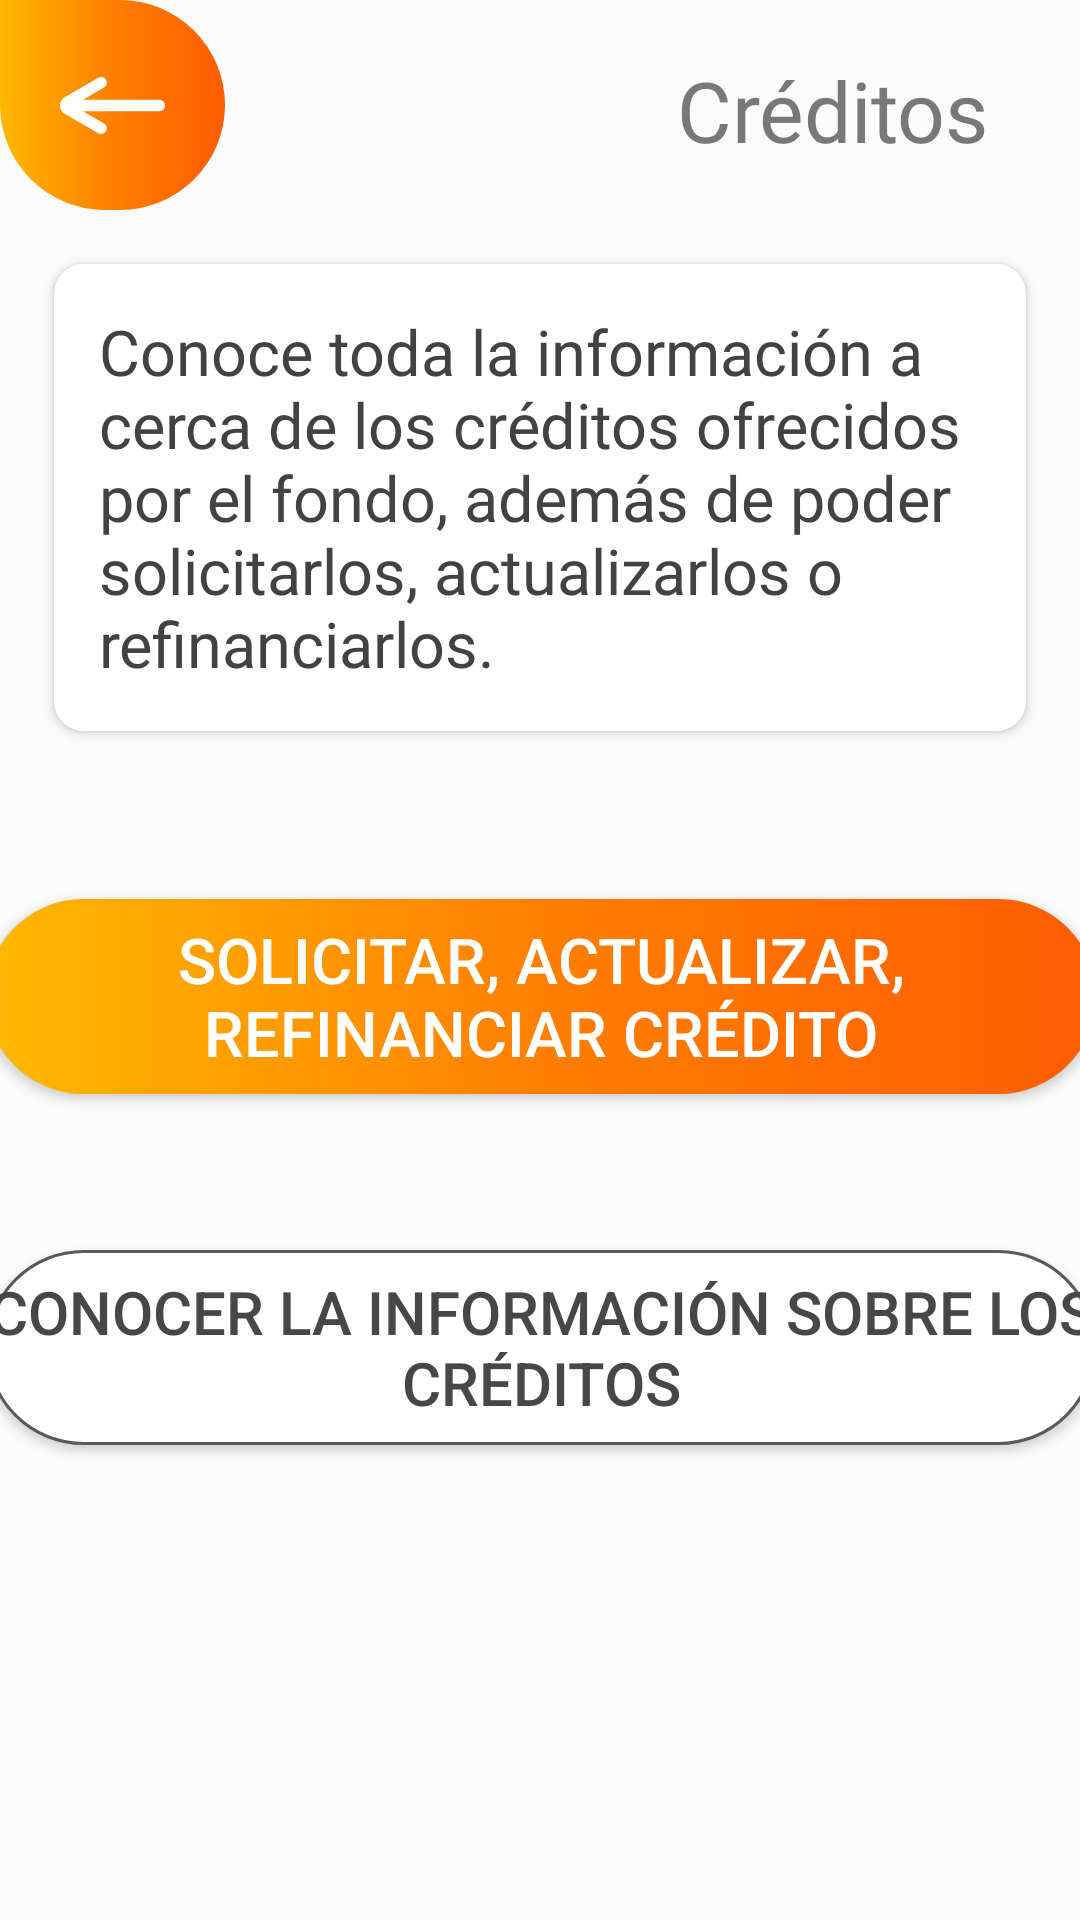

Icon bounding boxes for this 1080 x 1920 phone screenshot, format [x1, y1, x2, y2]:
backarrow: [0, 0, 225, 210]
